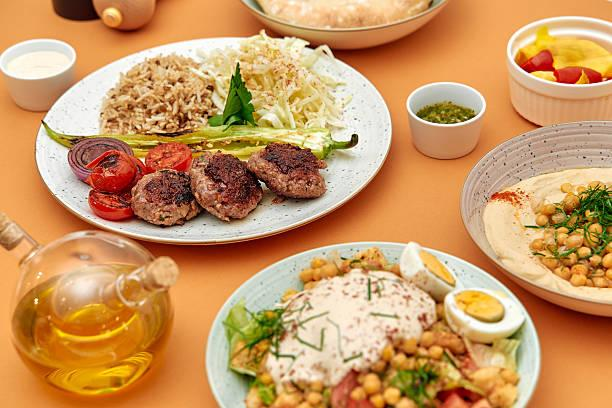Braised Crucian Carp: (35, 36, 388, 245), (206, 242, 538, 407), (458, 120, 609, 316)
